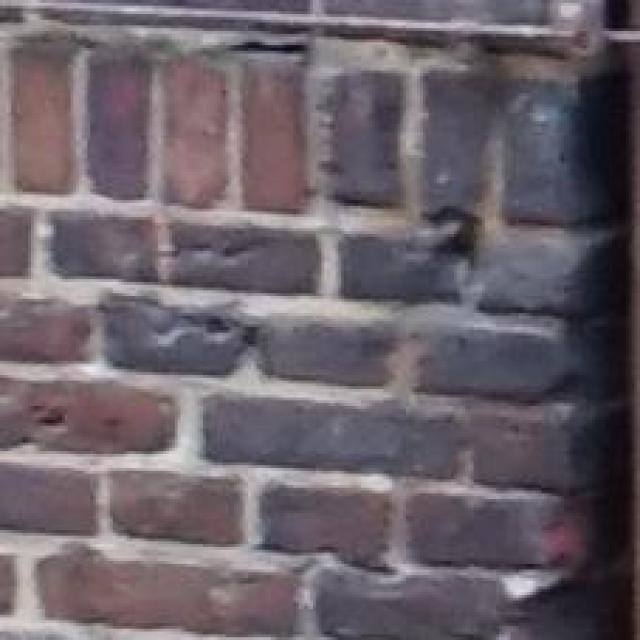Crack: (369, 174, 529, 330)
